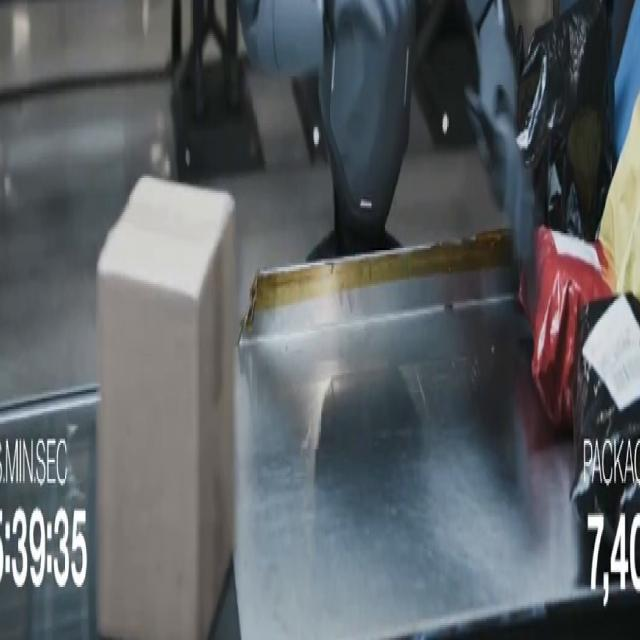package: (97, 179, 237, 639), (517, 0, 613, 241), (520, 227, 613, 430), (572, 295, 639, 538), (599, 96, 639, 296), (614, 0, 639, 158)
